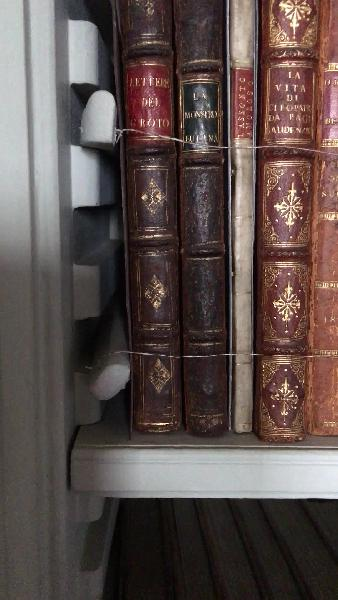Aa6-1: (104, 2, 190, 437)
Aa6-2: (167, 5, 229, 439)
Aa6-3: (219, 1, 264, 437)
Aa6-4: (256, 1, 317, 434)
